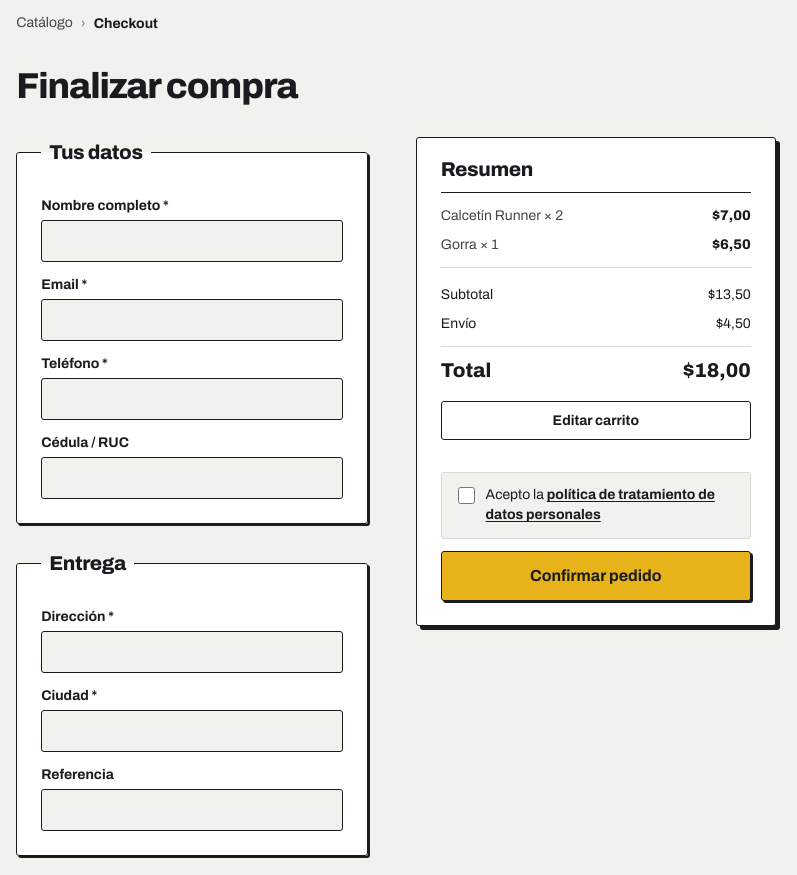
Test: CheckoutPage › resetea el widget y muestra el error cuando falla el captcha
In the field labelled "Nombre completo *": coordinates (192, 241) [41,220,343,262], type "Ana Pérez"
In the field labelled "Email *": coordinates (192, 320) [41,299,343,341], type "ana@example.com"
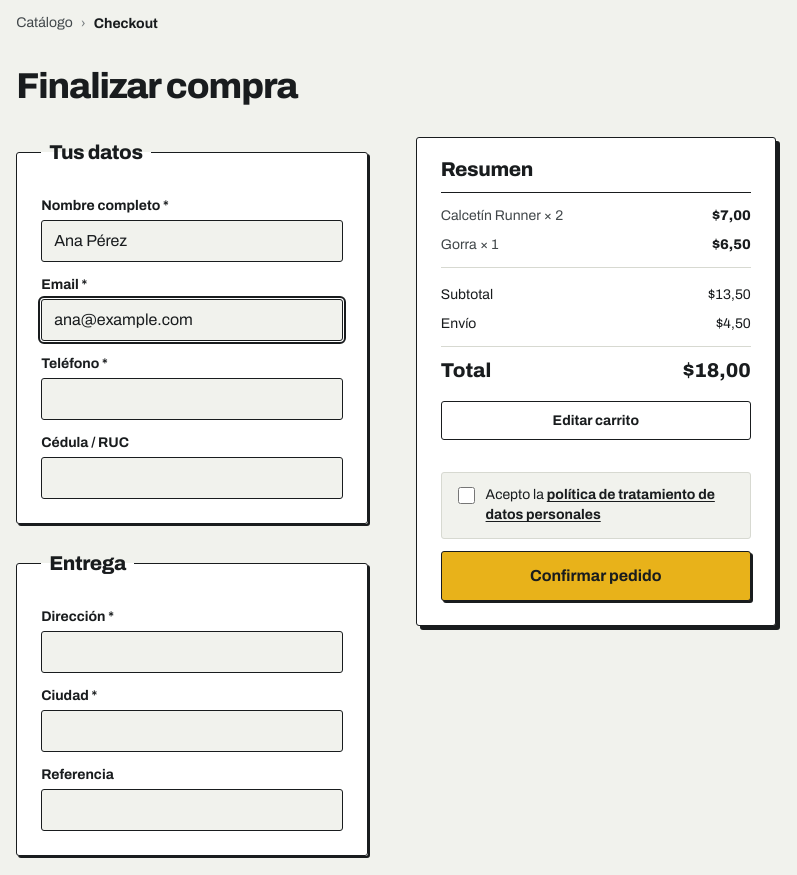
In the field labelled "Teléfono *": coordinates (192, 399) [41,378,343,420], type "0991234567"
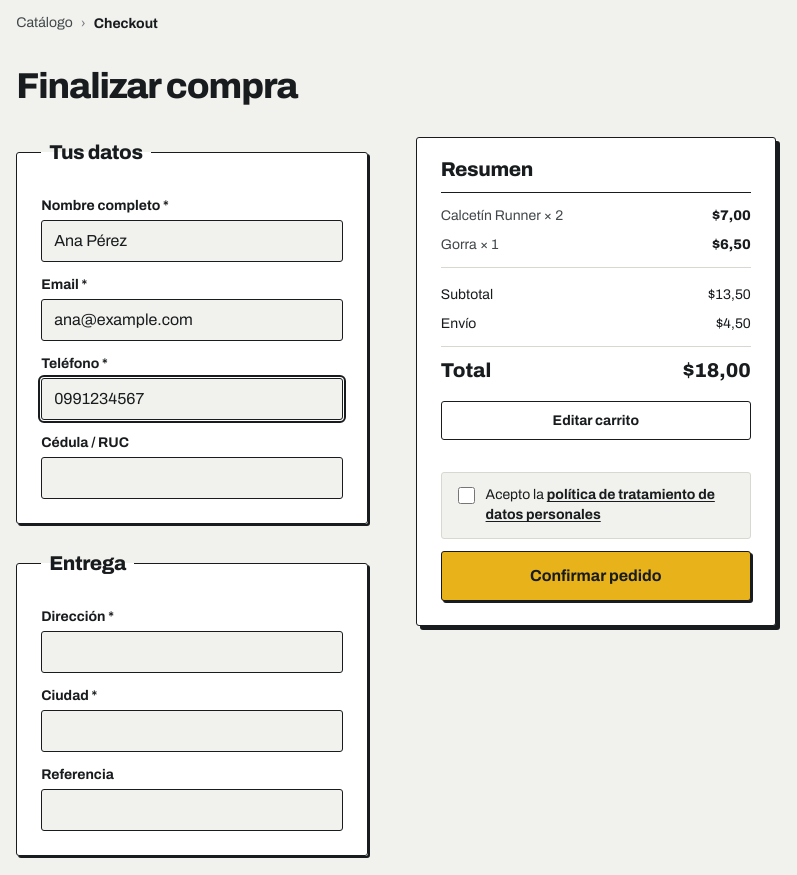
In the field labelled "Dirección *": coordinates (192, 652) [41,631,343,673], type "Av. Siempre Viva 123"
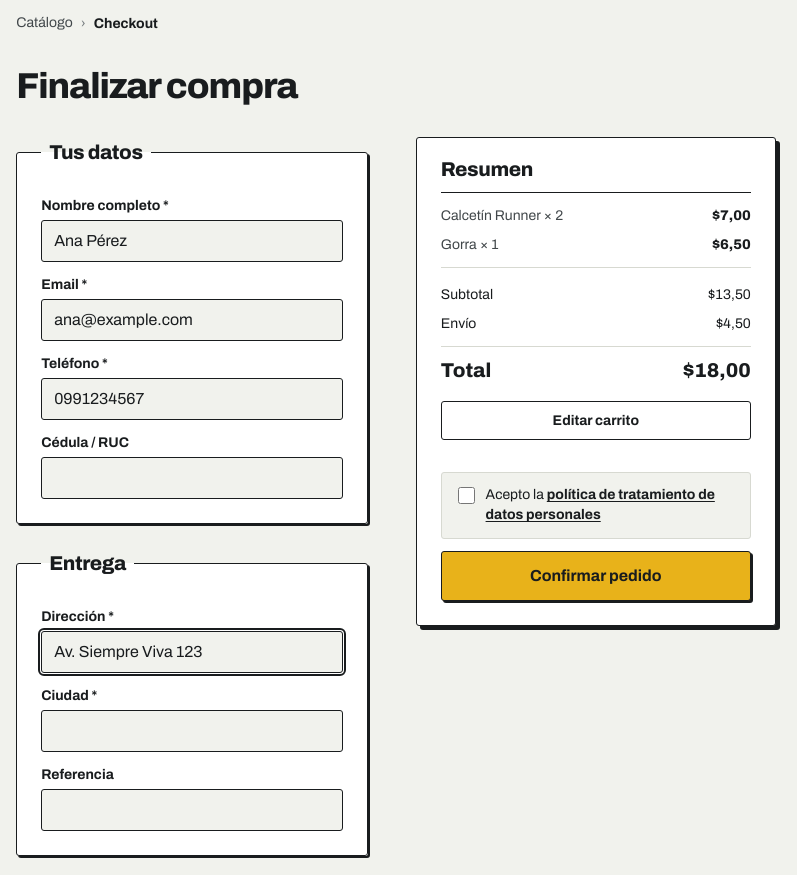
In the field labelled "Ciudad *": coordinates (192, 731) [41,710,343,752], type "Quito"
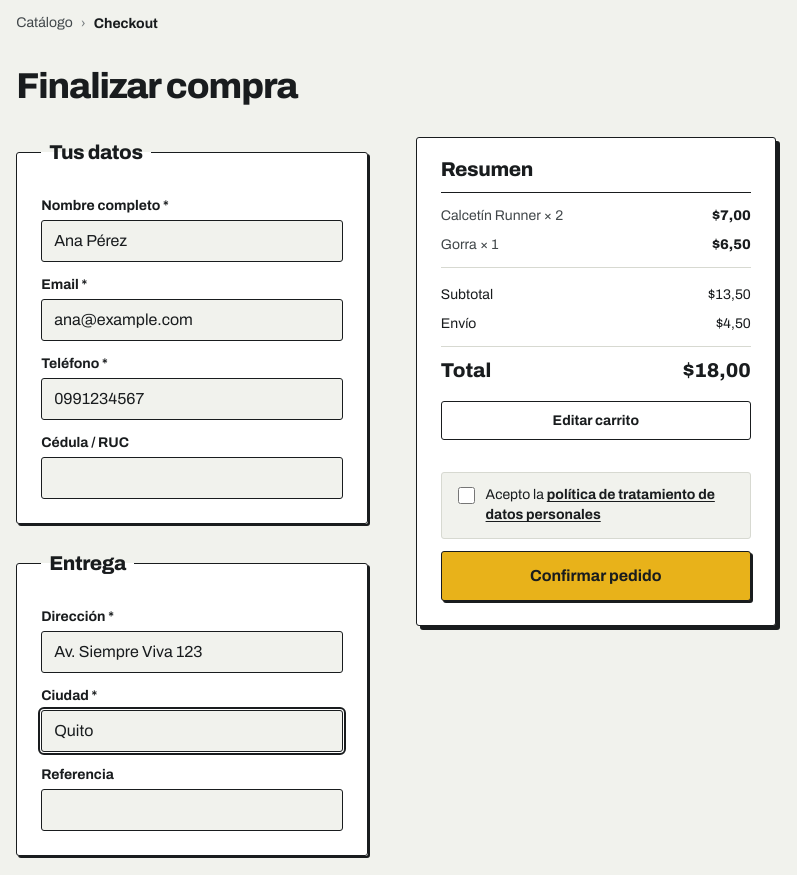
Click the checkbox labelled "Acepto la política de tratamiento de datos personales": coordinates (466, 495) [458,487,475,504]
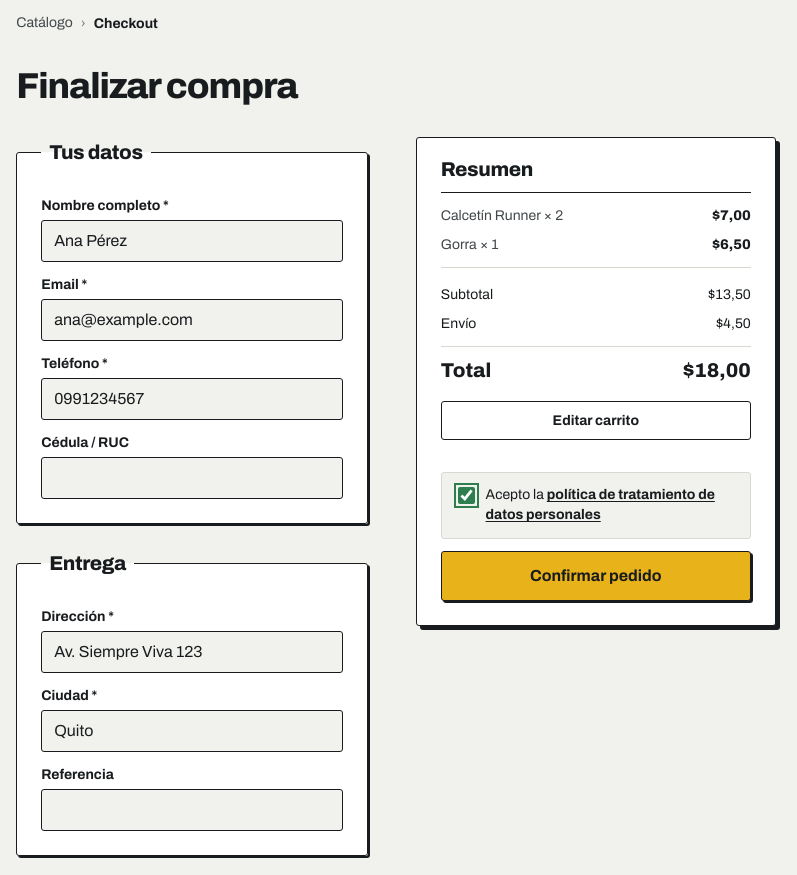
Click the button "Confirmar pedido": coordinates (596, 576) [441,551,751,601]
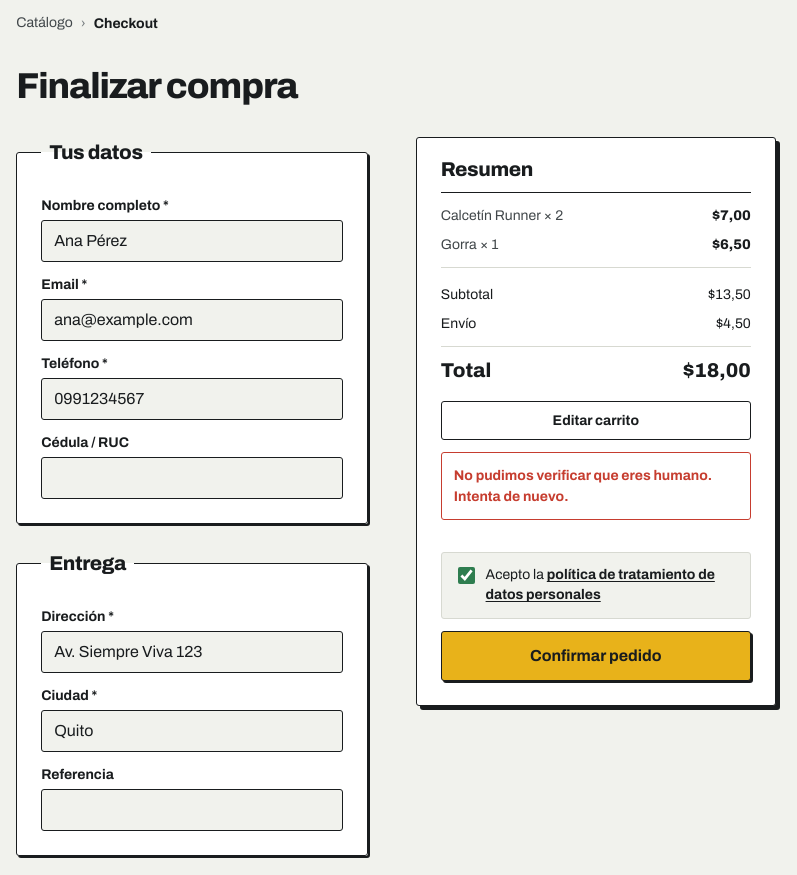
Expected: the text "No pudimos verificar que eres humano. Intenta de nuevo." is shown, [454,465,738,507]
